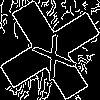X: (25, 25, 77, 81)
